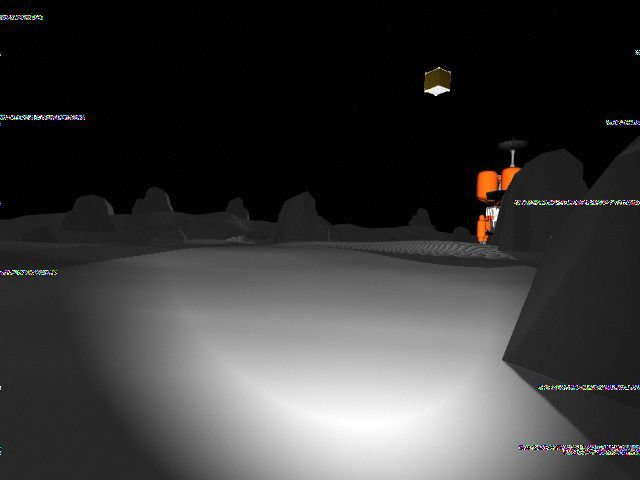cubesat: (417, 62, 455, 103)
